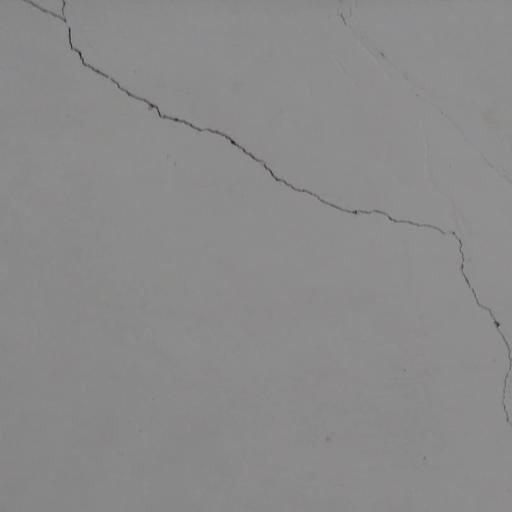major_crack: (26, 2, 512, 411)
